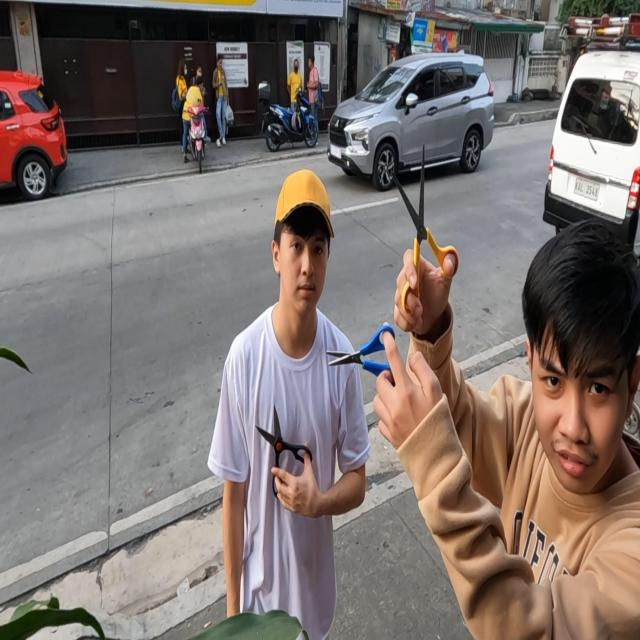scissor: (391, 144, 459, 316), (255, 404, 312, 497), (326, 326, 395, 382)
